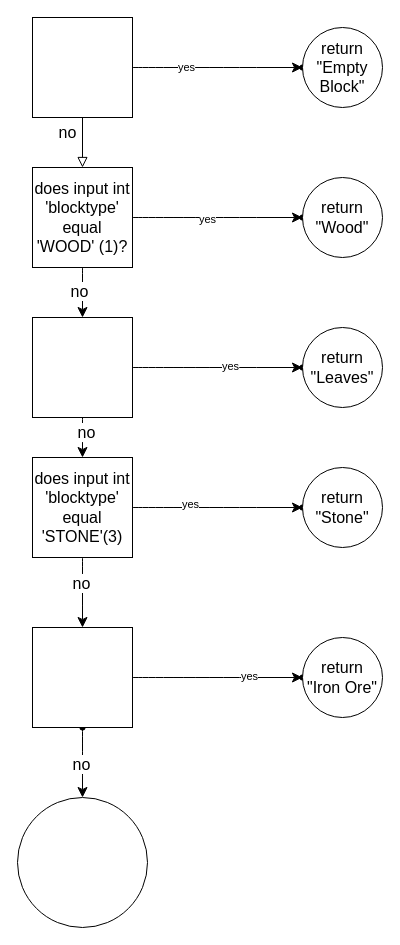
This 400x945 diagram has some shape labels left out. The centre of each missing label's shape, as x and y in pixels:
does input int 'blocktype' equal 'AIR' (0)?: (82,67)
does input int 'blocktype' equal 'IRON_ORE' (4)?: (82,677)
does input int 'blocktype' equal 'LEAVES' (2)?: (82,367)
return "Unknown": (82,862)
